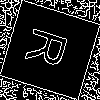R: (24, 25, 78, 73)
